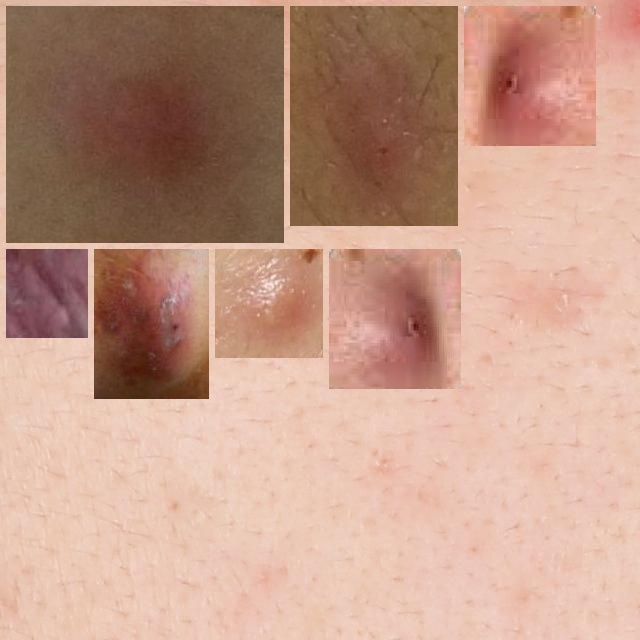nodule: (14, 14, 276, 235), (298, 14, 450, 218), (472, 14, 588, 138), (337, 257, 453, 381), (102, 257, 201, 391), (223, 257, 315, 350), (14, 257, 80, 330)
